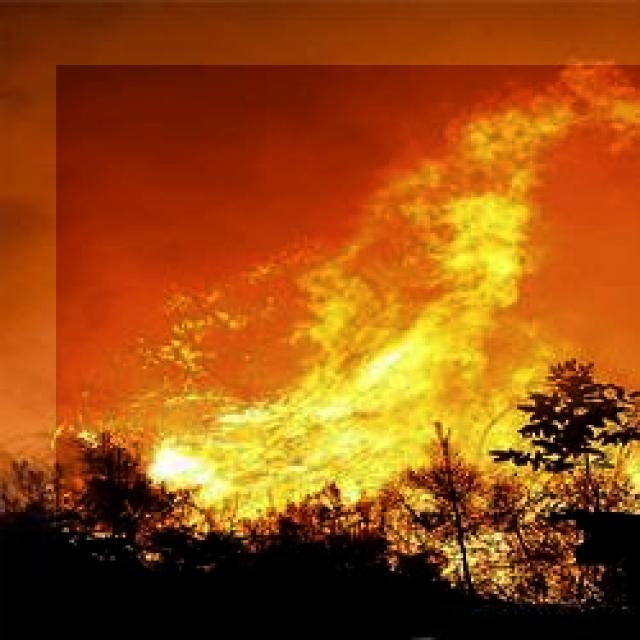Fire: (56, 65, 640, 605)
